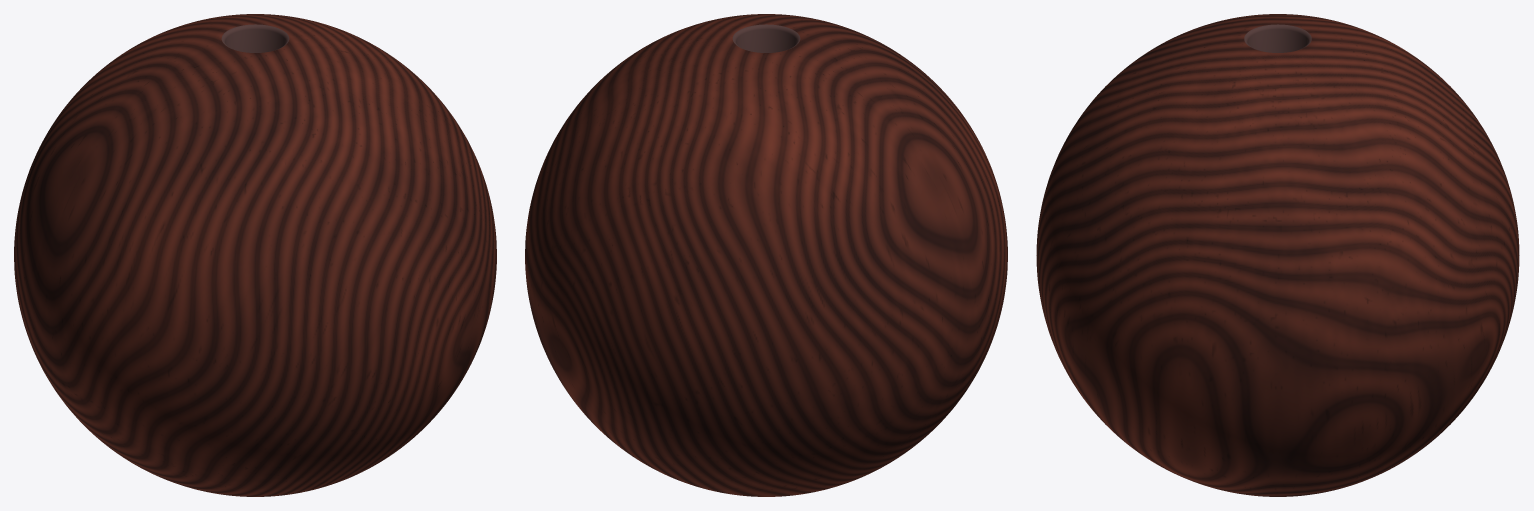
The model's file is red-rosewood-8mm.glb.
3 renders of one model, left to right at view 1: azimuth 30°, elevation 25°; view 2: azimuth 150°, elevation 25°; view 3: azimuth 270°, elevation 25°, orthographic.
Visible parts, largest first — view 1: red-rosewood; view 2: red-rosewood; view 3: red-rosewood.
Part boxes in pixels (x1,y1,x2,y2): red-rosewood: (14,14,496,496); red-rosewood: (525,14,1007,496); red-rosewood: (1036,14,1519,496).
Size of the model in its own units: 0.008 by 0.00792 by 0.008.
Materials: 2 (1 with a texture image).
